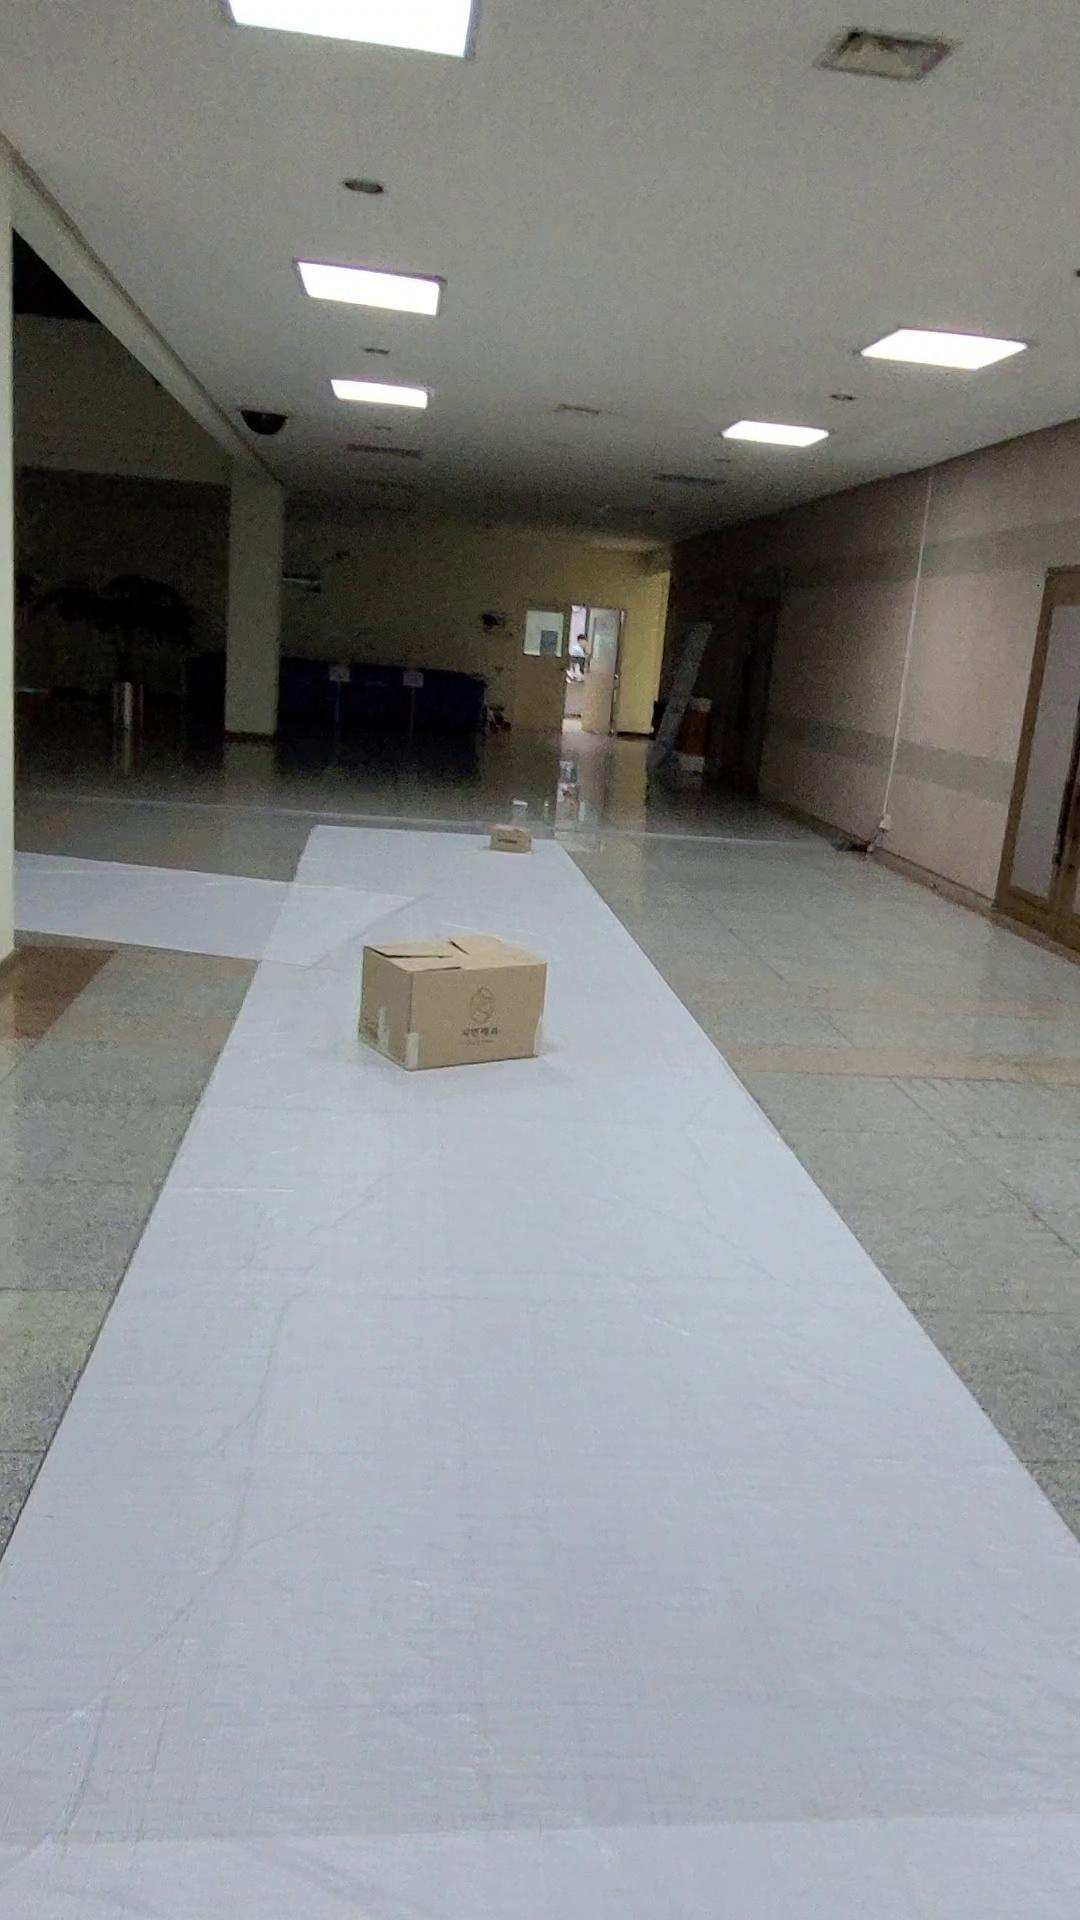Box: (338, 915, 572, 1105), (468, 790, 556, 872)
